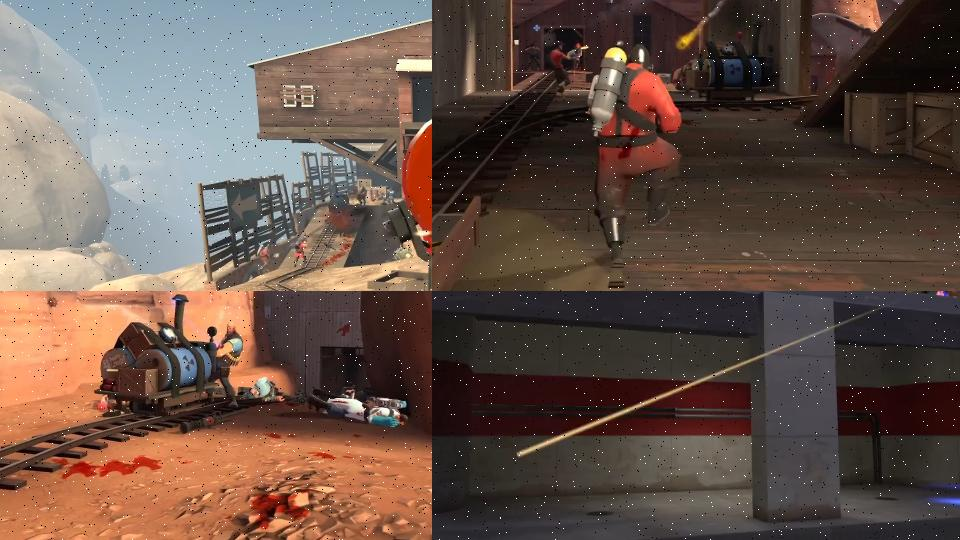Enemy: (578, 38, 685, 291), (308, 393, 409, 428), (205, 322, 244, 407), (546, 41, 585, 104), (247, 377, 288, 402), (257, 244, 280, 275), (523, 41, 543, 74), (294, 234, 308, 269), (356, 186, 368, 205), (388, 188, 395, 204)
